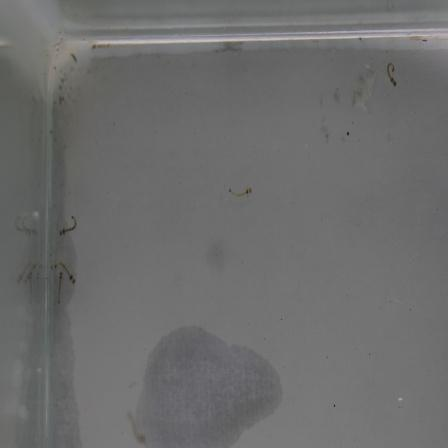Jentik-Nyamuk: (51, 258, 77, 309), (381, 56, 403, 93), (56, 211, 81, 242), (225, 181, 257, 202)
